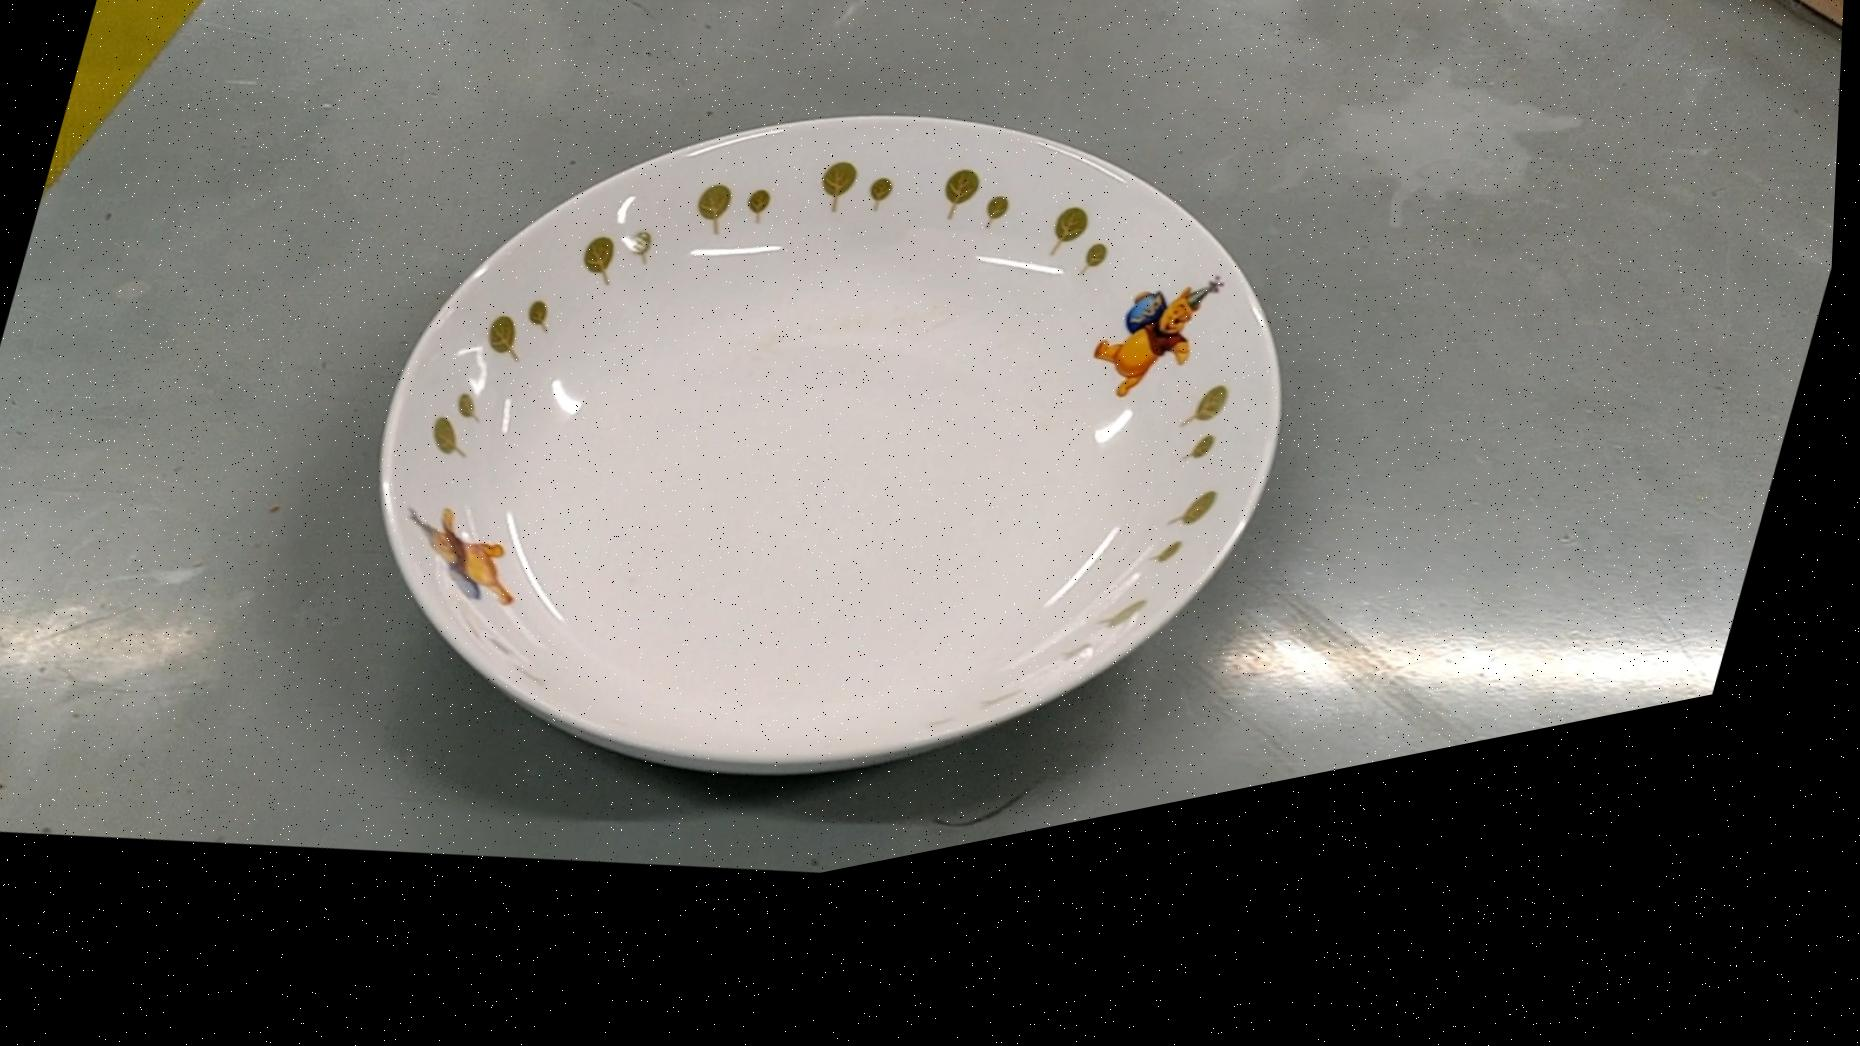plate: (293, 0, 1372, 994)
